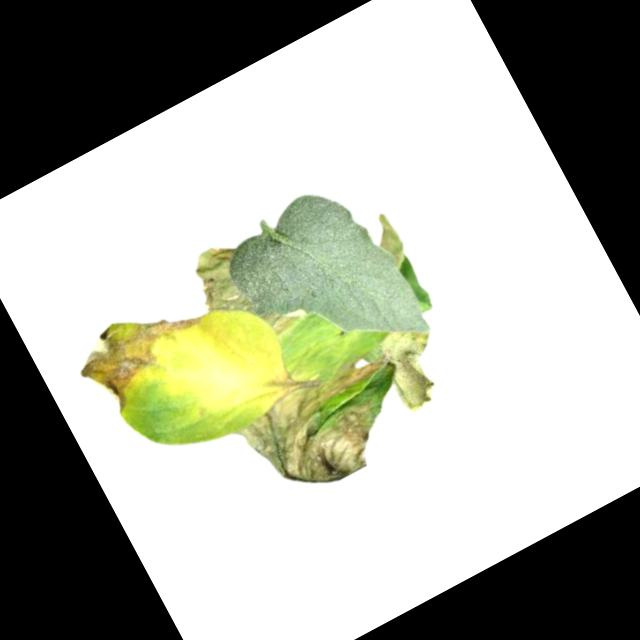Late_blight: (226, 340, 432, 516), (66, 284, 225, 422), (371, 316, 462, 420), (183, 237, 258, 315), (227, 280, 302, 354), (369, 210, 415, 271)
